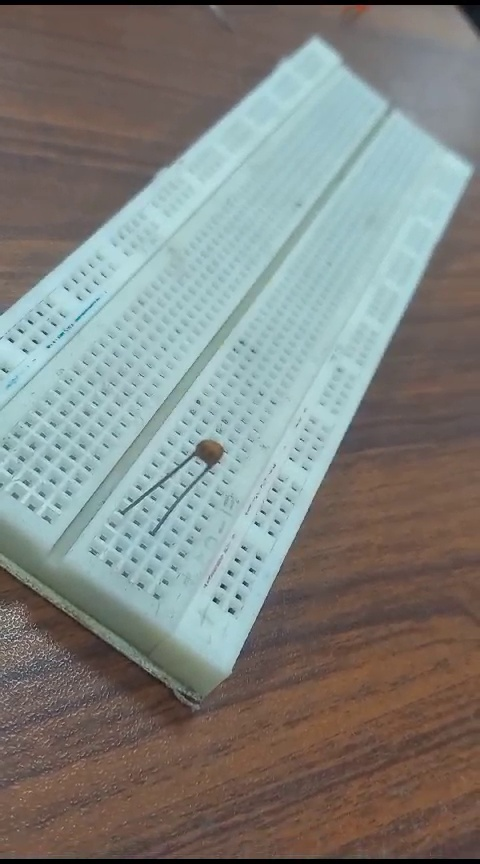ceramic capacitor: (122, 411, 226, 536)
